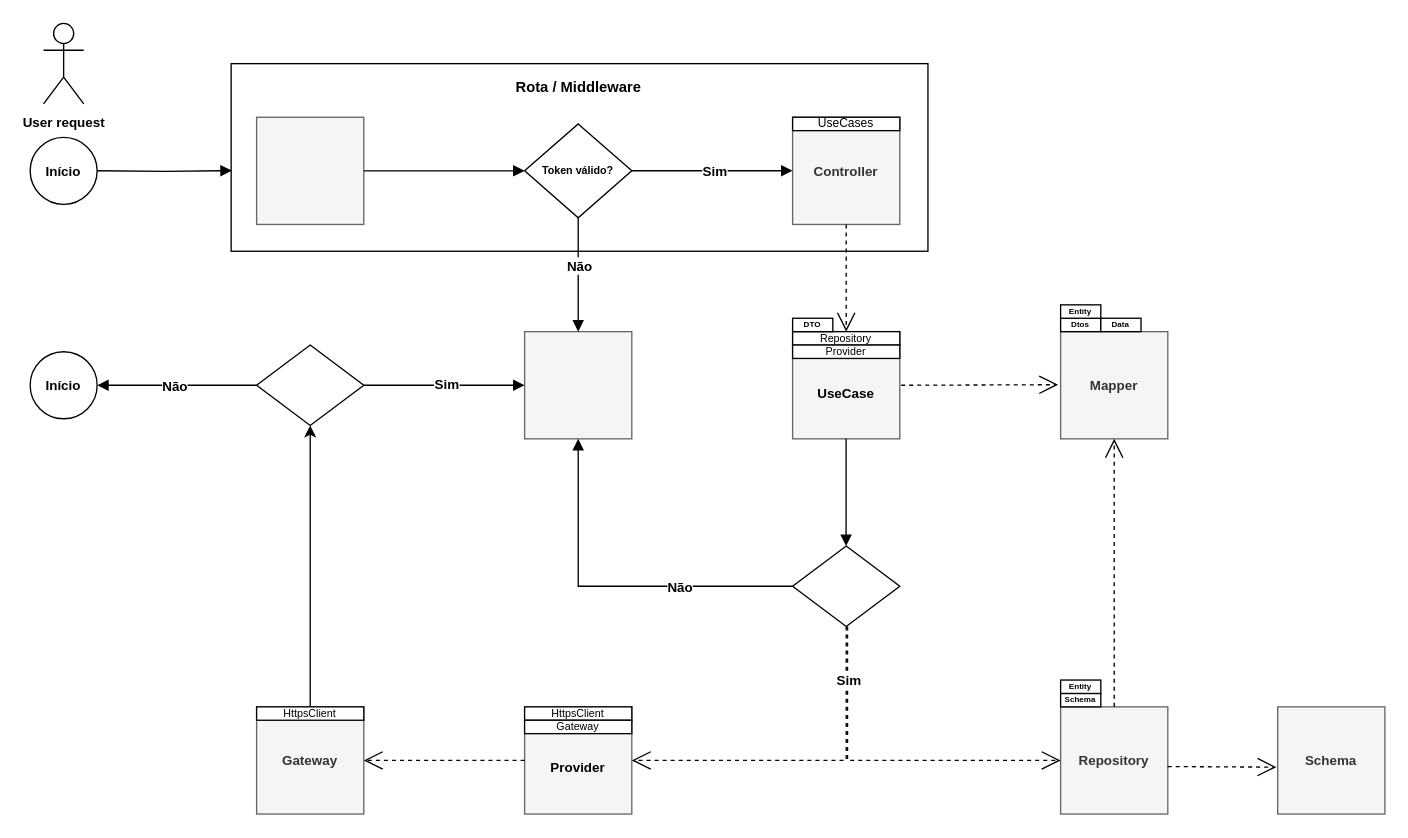
Some shapes in this 1408 by 838 pixel diagram are drawn without their labels. Each missing label, with the centre of its shape:
"Authorization" belongs at point (309, 170).
"Dto válido?" belongs at point (845, 585).
"Erro?" belongs at point (309, 384).
"Exception Handle Middleware" belongs at point (577, 384).
